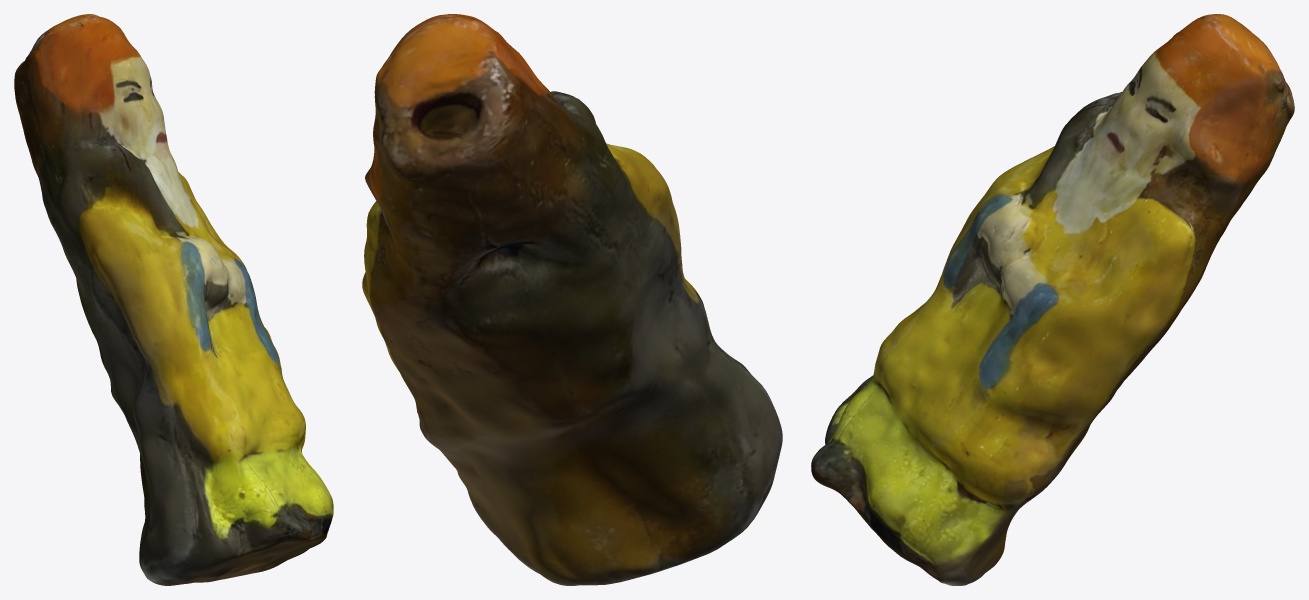
The picture shows the model from 3 angles, left to right: view 1: azimuth 30°, elevation 25°; view 2: azimuth 150°, elevation 25°; view 3: azimuth 270°, elevation 25°; orthographic projection. The views are drawn at different scales.
Size of the model in its own units: 0.2389 by 0.567 by 0.465.
Materials: 1 (1 with a texture image).
